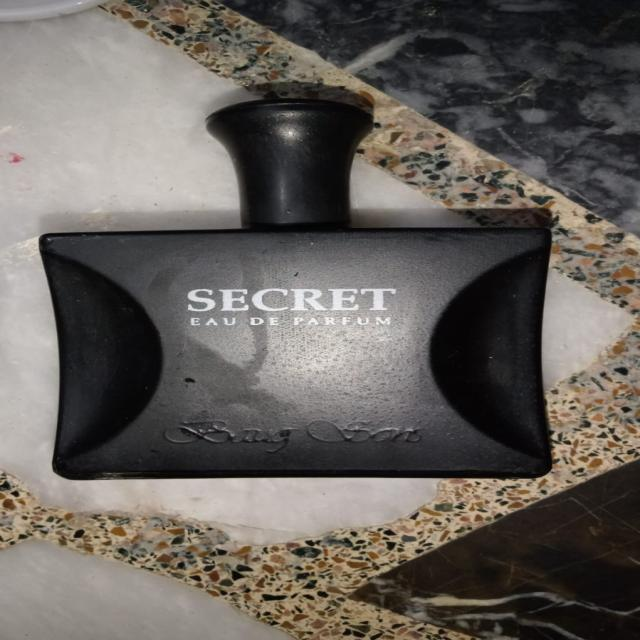perfume: (14, 80, 640, 510)
